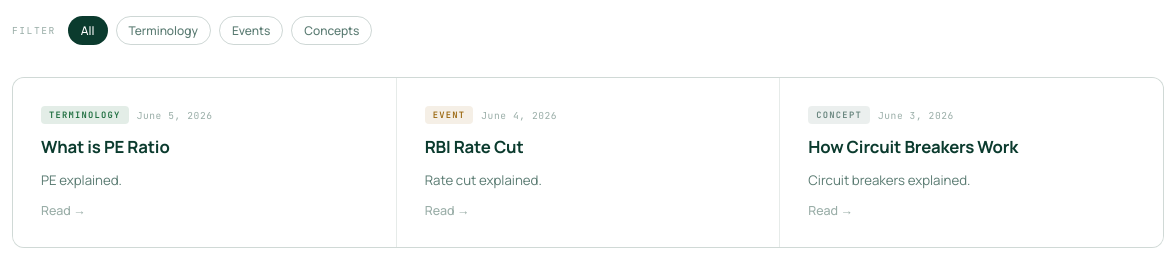
Test: BlogListing › clicking All restores all posts
Click the button "Terminology" at (163, 30), box [116,16,211,45]
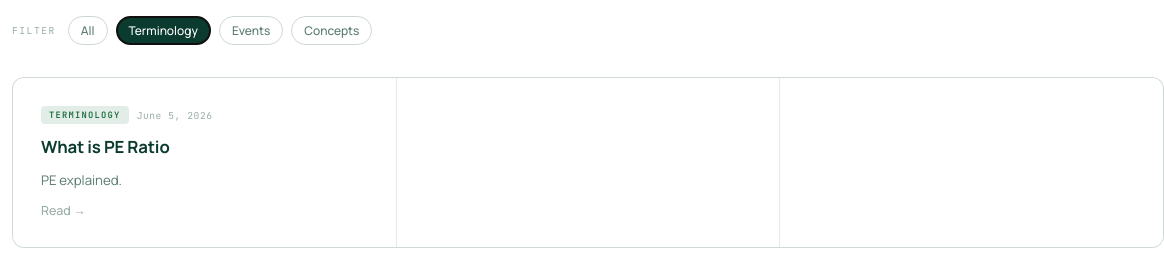
Click the button "All" at (88, 30), box [68,16,108,45]
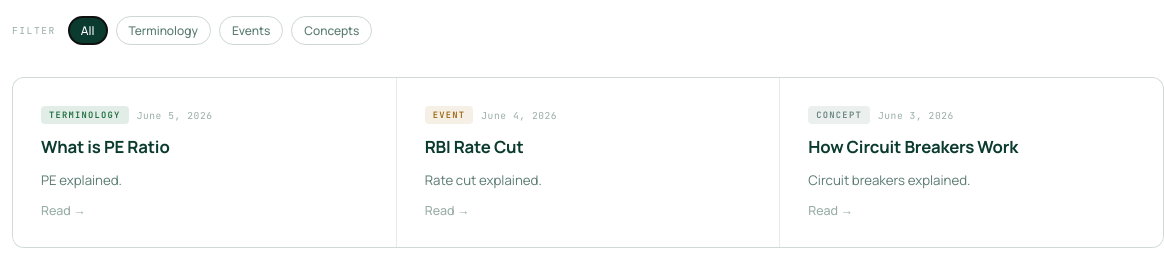
Check: the text "RBI Rate Cut" is shown, box [425,135,524,158]
